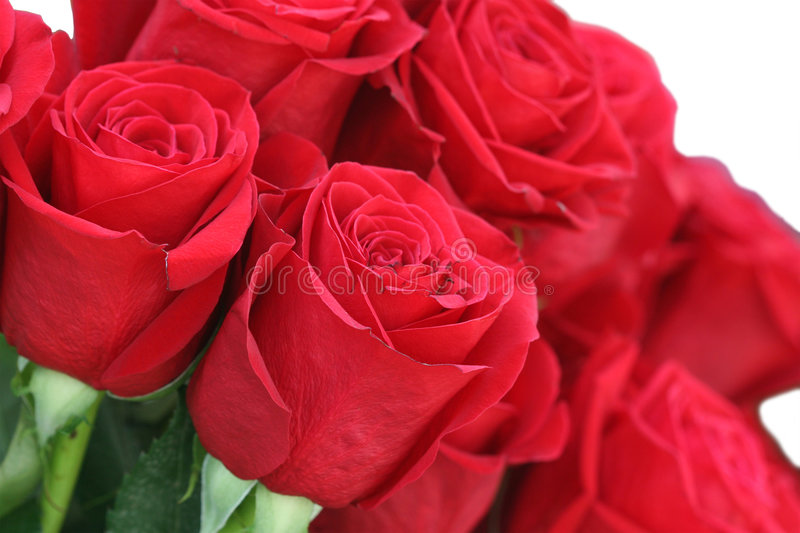RedRose: (234, 148, 544, 533), (12, 59, 235, 404)
